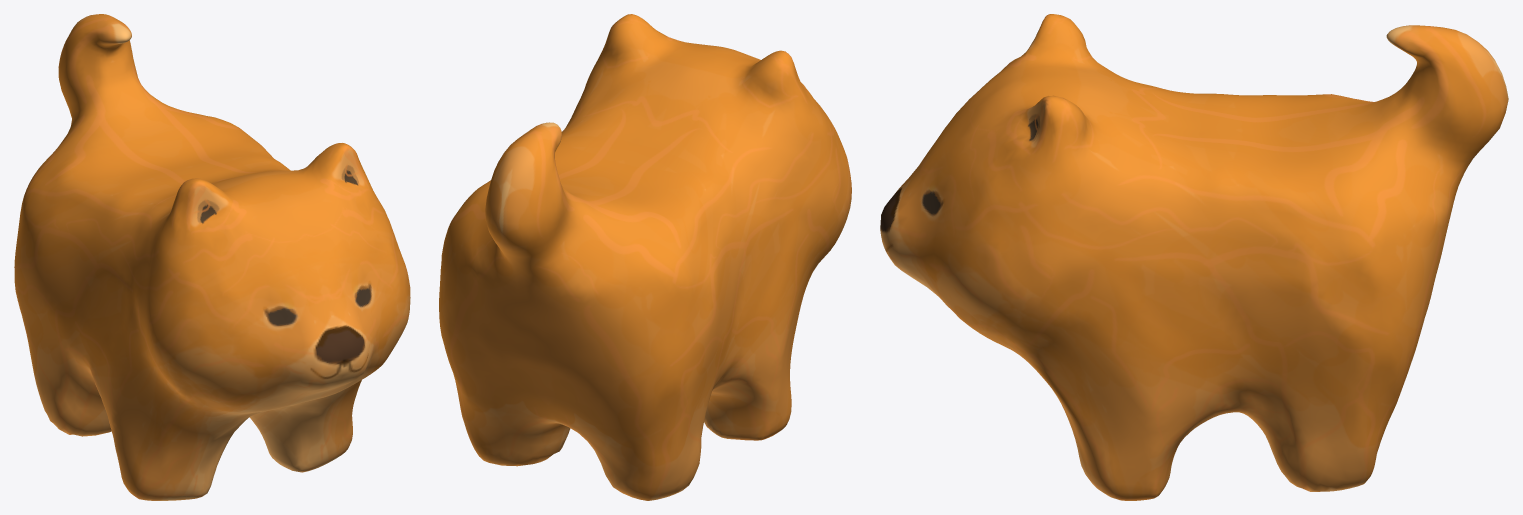
File: Marmalade.fbx
3 views of the same model, side by side, from view 1: azimuth 30°, elevation 25°; view 2: azimuth 150°, elevation 25°; view 3: azimuth 270°, elevation 25° (orthographic). The views are drawn at different scales.
Parts seen in each view (by area): view 1: Marmalade; view 2: Marmalade; view 3: Marmalade.
Part boxes in pixels (bbox=[...]): Marmalade: bbox=[14, 14, 410, 500]; Marmalade: bbox=[439, 14, 851, 500]; Marmalade: bbox=[880, 14, 1508, 500].
Size of the model in its own units: 123 by 174 by 235.
